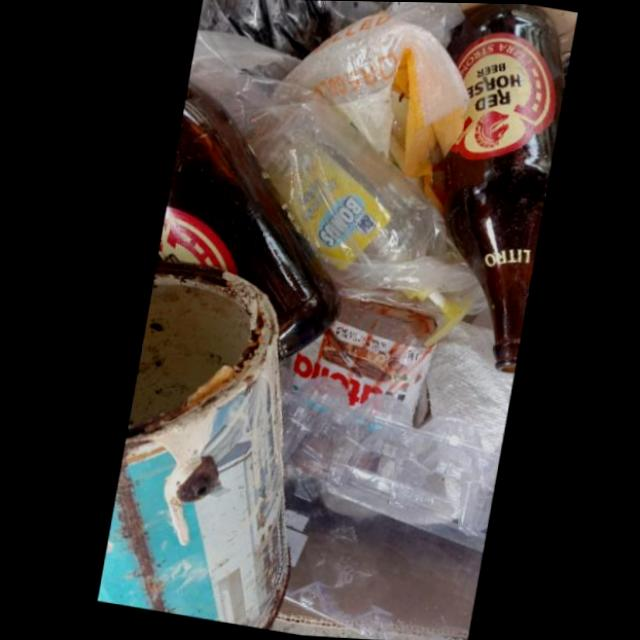chai_thuy_tinh: (153, 87, 337, 364), (439, 3, 558, 375)
hop_nhua: (276, 372, 499, 554), (290, 301, 433, 412)
nhom: (96, 266, 289, 633)
